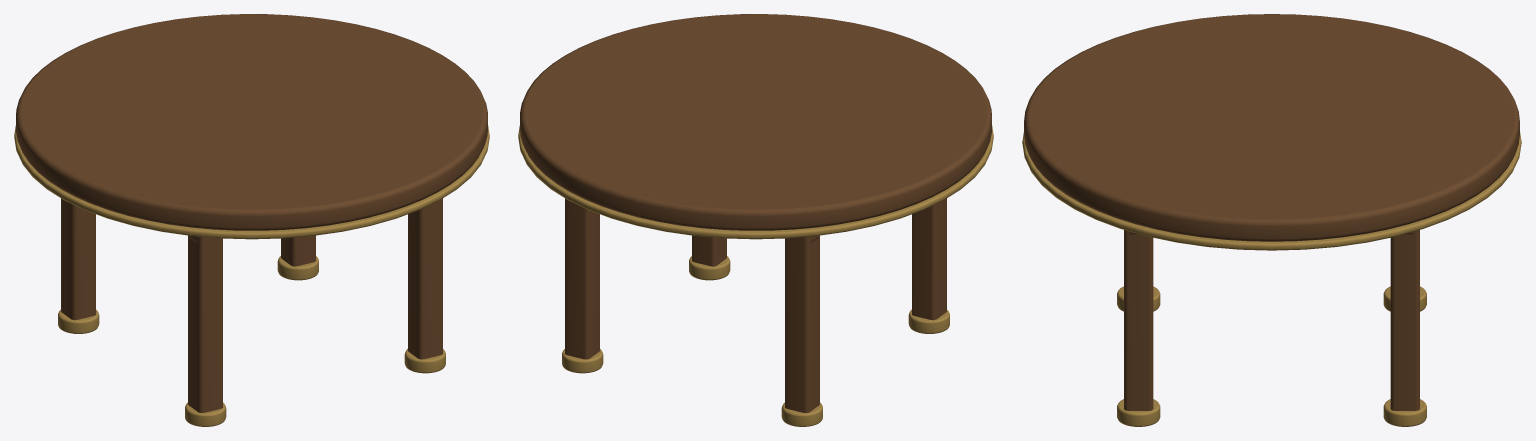
Rendered from GJH_PUB_005.glb.
3 views of the same model, side by side, from view 1: azimuth 30°, elevation 25°; view 2: azimuth 150°, elevation 25°; view 3: azimuth 270°, elevation 25° (orthographic). The views are drawn at different scales.
Visible parts, largest first — view 1: GJH-PUB-005_VISUAL; view 2: GJH-PUB-005_VISUAL; view 3: GJH-PUB-005_VISUAL.
Boxes of the visible parts, <box> form: GJH-PUB-005_VISUAL: <box>14,14,489,426</box>; GJH-PUB-005_VISUAL: <box>518,14,993,426</box>; GJH-PUB-005_VISUAL: <box>1022,14,1521,426</box>.
Size of the model in its own units: 1.61 by 0.875 by 1.61.
